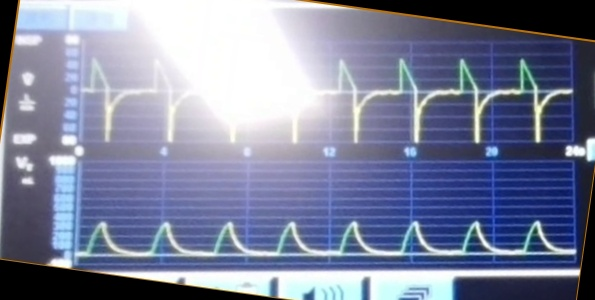Normal Flow: (84, 45, 576, 144)
Normal Volume: (80, 195, 575, 263)
